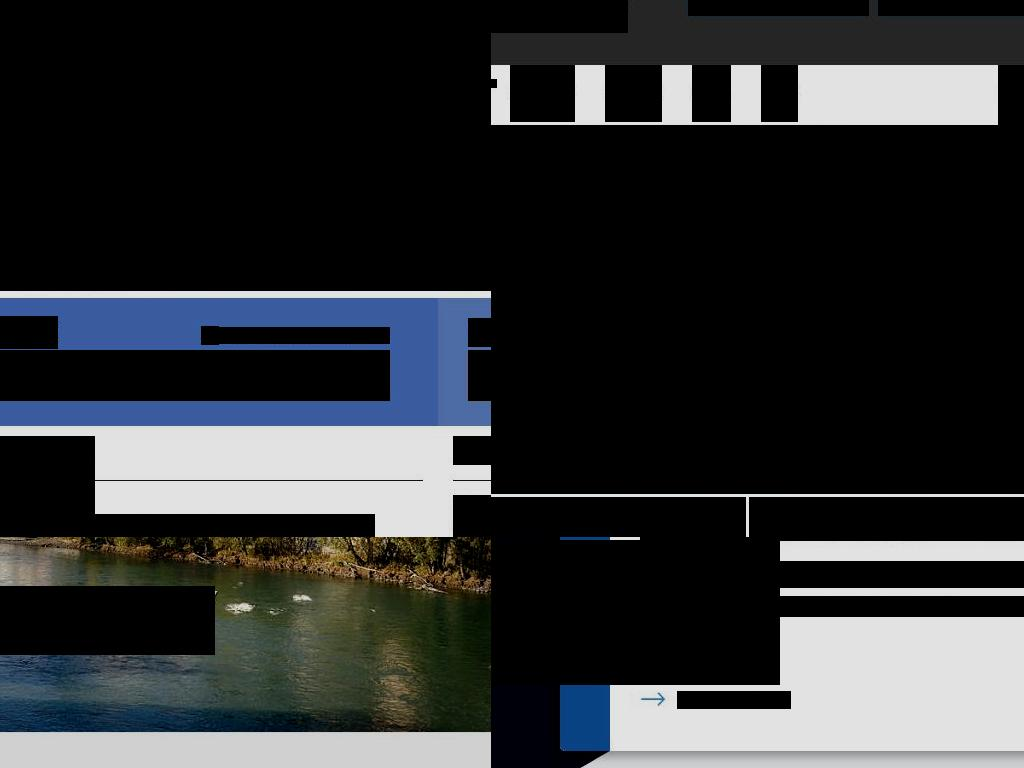button: (491, 125, 1024, 494), (510, 65, 575, 122), (605, 65, 662, 122), (688, 0, 869, 16), (878, 0, 1024, 16), (692, 65, 731, 122), (761, 65, 798, 122), (998, 65, 1024, 125), (543, 461, 551, 470), (573, 461, 581, 470), (603, 461, 611, 470)
field: (0, 350, 390, 401)
heading: (491, 540, 780, 685), (0, 174, 186, 258), (0, 586, 215, 655), (640, 561, 1024, 588), (0, 514, 375, 537), (234, 238, 416, 261), (234, 184, 339, 207), (0, 316, 58, 349), (0, 493, 40, 537)
image: (491, 125, 1024, 494), (0, 0, 491, 291), (453, 495, 491, 537), (201, 326, 219, 345)
link: (677, 691, 791, 709)
text: (640, 596, 1024, 617), (764, 527, 1024, 537), (491, 527, 731, 537), (284, 327, 390, 344), (219, 327, 284, 344), (998, 86, 1024, 103), (491, 79, 497, 88)
